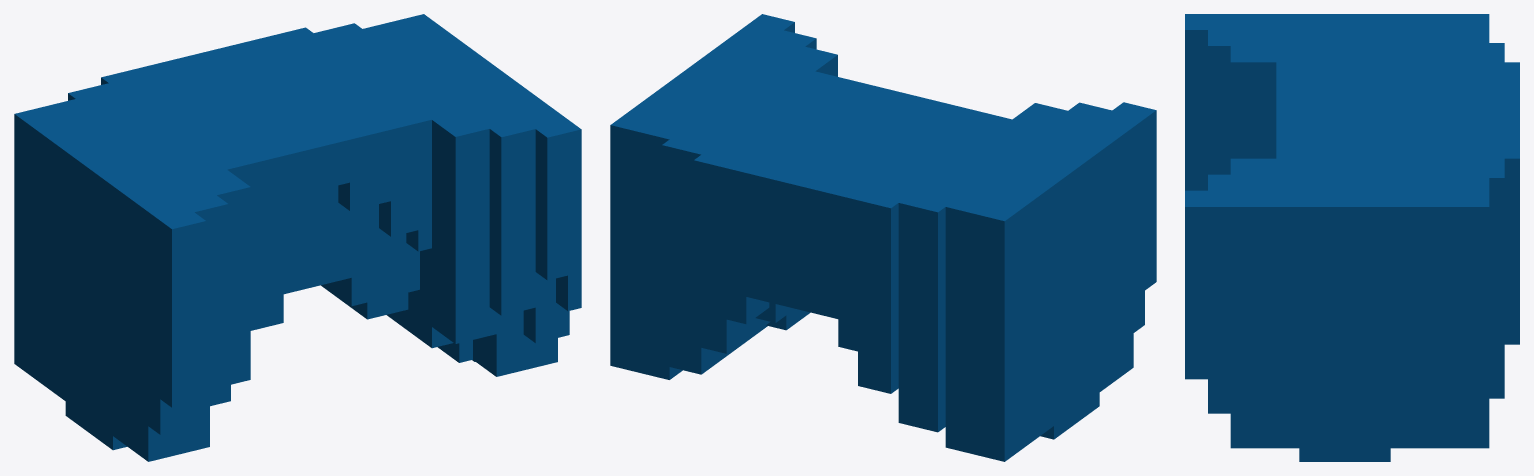
The model's file is entrance.obj.
The picture shows the model from 3 angles, left to right: view 1: azimuth 30°, elevation 25°; view 2: azimuth 150°, elevation 25°; view 3: azimuth 270°, elevation 25°; orthographic projection. The views are drawn at different scales.
Bounding box in the file's own units: 60 × 37 × 44.
1 material, 1 textured.
